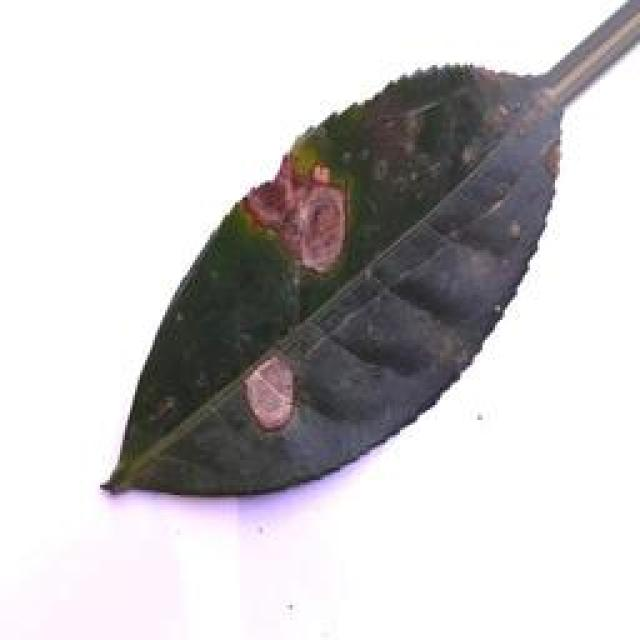Gray Blight: (104, 0, 628, 505)
